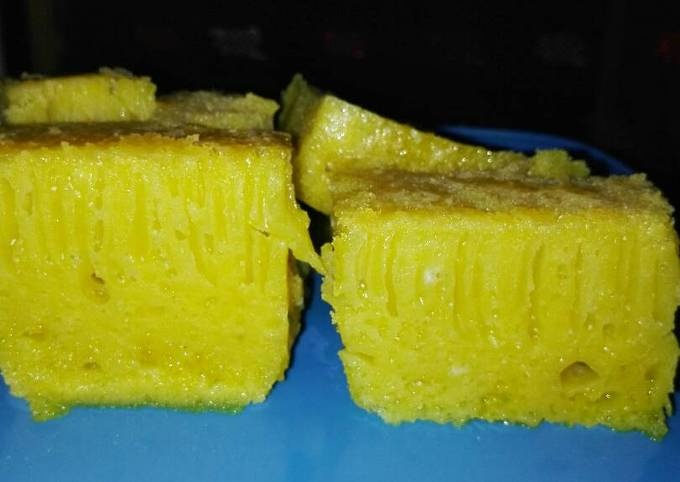bika_ambon: (6, 124, 677, 438)
